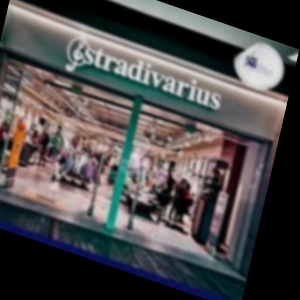stradivarius: (197, 45, 266, 116)
